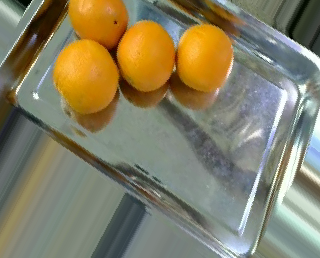Orange: (54, 39, 118, 113), (118, 19, 175, 90), (176, 22, 234, 90), (67, 0, 128, 47)
